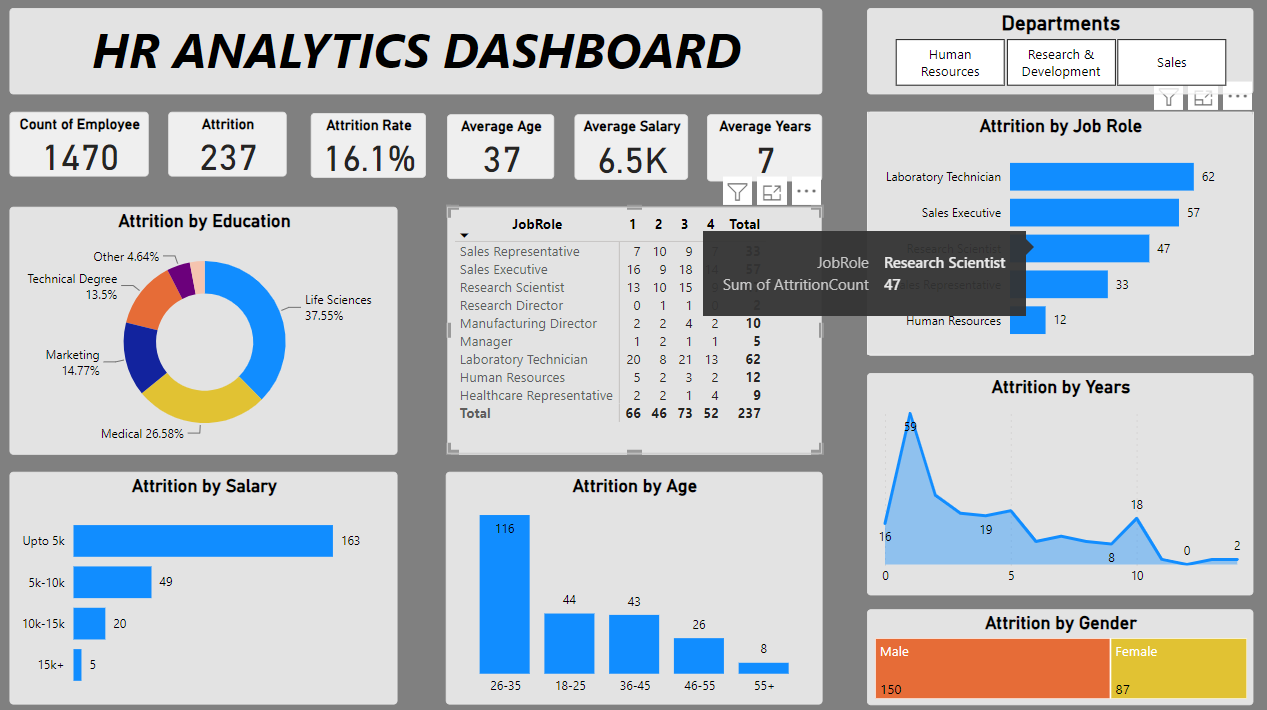

What the dashboard file says about the page in this screenshot:
{"tool":"powerbi","page":{"name":"Page 1","canvas":[1280,720],"ordinal":0},"visuals":[{"type":"card","title":"Count of Employee","fields":{"Values":["CountNonNull(HR_Analytics.EmpID)"]},"box":[17,113.8,139.4,64.9],"z":0},{"type":"card","title":"Attrition","fields":{"Values":["Sum(HR_Analytics.AttritionCount)"]},"box":[176.6,113.8,118.1,64.9],"z":1000},{"type":"card","title":"Attrition Rate","fields":{"Values":["HR_Analytics.AttritionRate"]},"box":[319.1,114.9,114.9,64.9],"z":2000},{"type":"card","title":"Average Age ","fields":{"Values":["Avg(HR_Analytics.Age)"]},"box":[455.3,116,107.4,64.9],"z":3000},{"type":"card","title":"Average Salary","fields":{"Values":["Avg(HR_Analytics.MonthlyIncome)"]},"box":[583,116,113.8,66],"z":4000},{"type":"card","title":"Average Years ","fields":{"Values":["Avg(HR_Analytics.YearsAtCompany)"]},"box":[714.9,116,114.9,67],"z":5000},{"type":"donutChart","title":"Attrition by Education","fields":{"Category":["HR_Analytics.EducationField"],"Y":["Sum(HR_Analytics.AttritionCount)"]},"box":[17,208.5,388.3,247.9],"z":6000},{"type":"columnChart","title":"Attrition by Age","fields":{"Category":["HR_Analytics.AgeGroup"],"Y":["Sum(HR_Analytics.AttritionCount)"]},"box":[453.2,473.4,376.6,233],"z":7000},{"type":"pivotTable","fields":{"Rows":["HR_Analytics.JobRole"],"Columns":["HR_Analytics.JobSatisfaction"],"Values":["Sum(HR_Analytics.AttritionCount)"]},"box":[455.3,208.5,374.5,247.9],"z":8000},{"type":"barChart","title":"Attrition by Salary","fields":{"Category":["HR_Analytics.SalarySlab"],"Y":["Sum(HR_Analytics.AttritionCount)"]},"box":[17,473.4,388.3,233],"z":9000},{"type":"barChart","title":"Attrition by Job Role","fields":{"Category":["HR_Analytics.JobRole"],"Y":["Sum(HR_Analytics.AttritionCount)"]},"box":[875.5,113.8,386.2,243.6],"z":10000},{"type":"areaChart","title":"Attrition by Years","fields":{"Category":["HR_Analytics.YearsAtCompany"],"Y":["Sum(HR_Analytics.AttritionCount)"]},"box":[875,375,386.2,222.5],"z":11000},{"type":"treemap","title":"Attrition by Gender","fields":{"Group":["HR_Analytics.Gender"],"Values":["Sum(HR_Analytics.AttritionCount)"]},"box":[875.5,610.6,386.2,95.7],"z":12000},{"type":"slicer","title":"Departments","fields":{"Values":["HR_Analytics.Department"]},"box":[875.5,9.6,386.2,86.2],"z":13000},{"type":"textbox","box":[17,9.6,812.8,86.2],"z":14000}]}

Visuals, with their boxes in screenshot pixels (x1, y1, x2, y2), scaled from the page's 1280x720 canvas onto the 1267x710 screenshot:
"Count of Employee" card: bbox=[17, 112, 155, 176]
"Attrition" card: bbox=[175, 112, 292, 176]
"Attrition Rate" card: bbox=[316, 113, 430, 177]
"Average Age " card: bbox=[451, 114, 557, 178]
"Average Salary" card: bbox=[577, 114, 690, 179]
"Average Years " card: bbox=[708, 114, 821, 180]
"Attrition by Education" donutChart: bbox=[17, 206, 401, 450]
"Attrition by Age" columnChart: bbox=[449, 467, 821, 697]
pivotTable - HR_Analytics.JobRole x HR_Analytics.JobSatisfaction: bbox=[451, 206, 821, 450]
"Attrition by Salary" barChart: bbox=[17, 467, 401, 697]
"Attrition by Job Role" barChart: bbox=[867, 112, 1249, 352]
"Attrition by Years" areaChart: bbox=[866, 370, 1248, 589]
"Attrition by Gender" treemap: bbox=[867, 602, 1249, 696]
"Departments" slicer: bbox=[867, 9, 1249, 94]
textbox: bbox=[17, 9, 821, 94]
